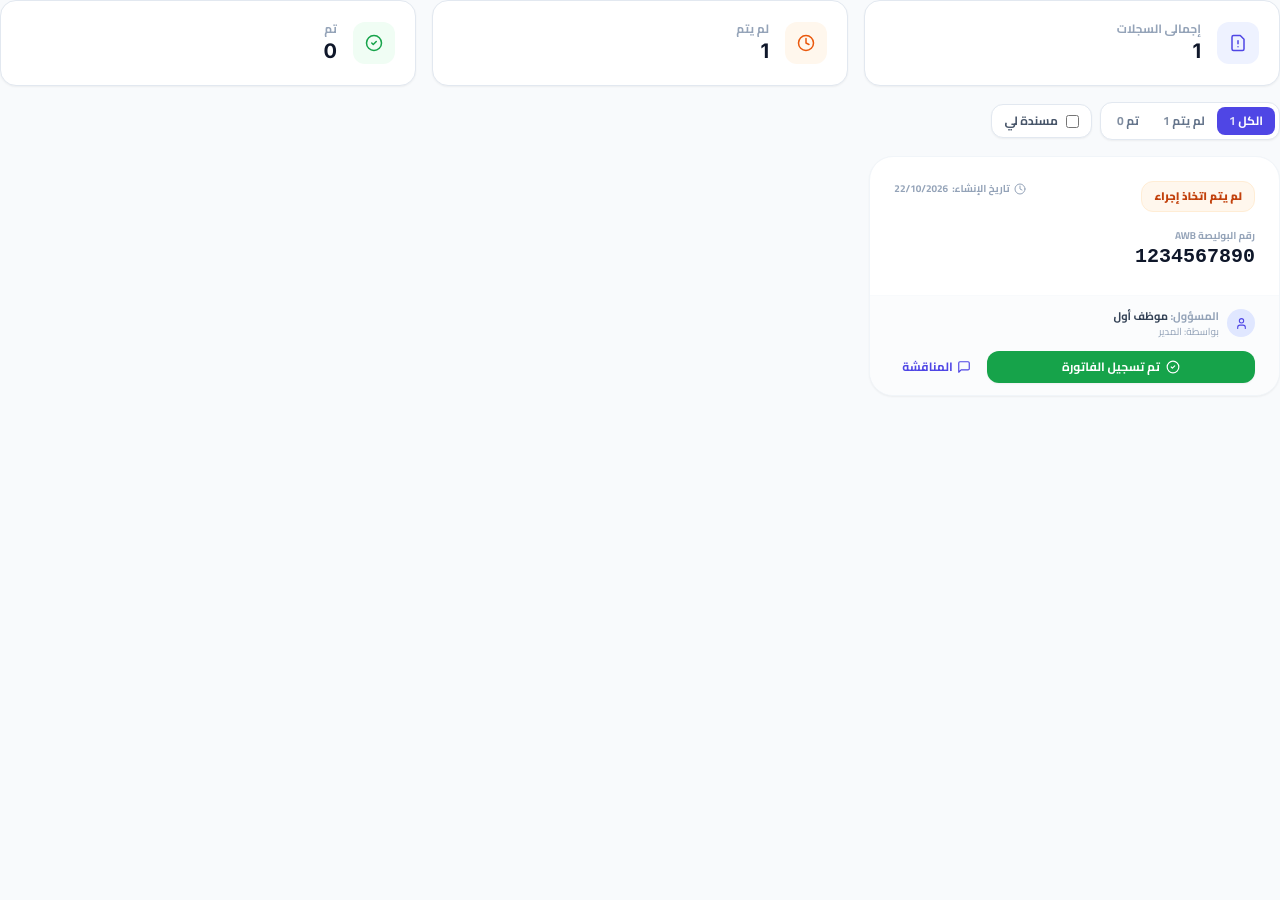
Test: تم تسجيل الفاتورة — link dialog › a mismatched or AWB-less invoice shows the warning and cannot be confirmed
Click the button "تم تسجيل الفاتورة".
click(1121, 367)  # box [987,351,1255,383]
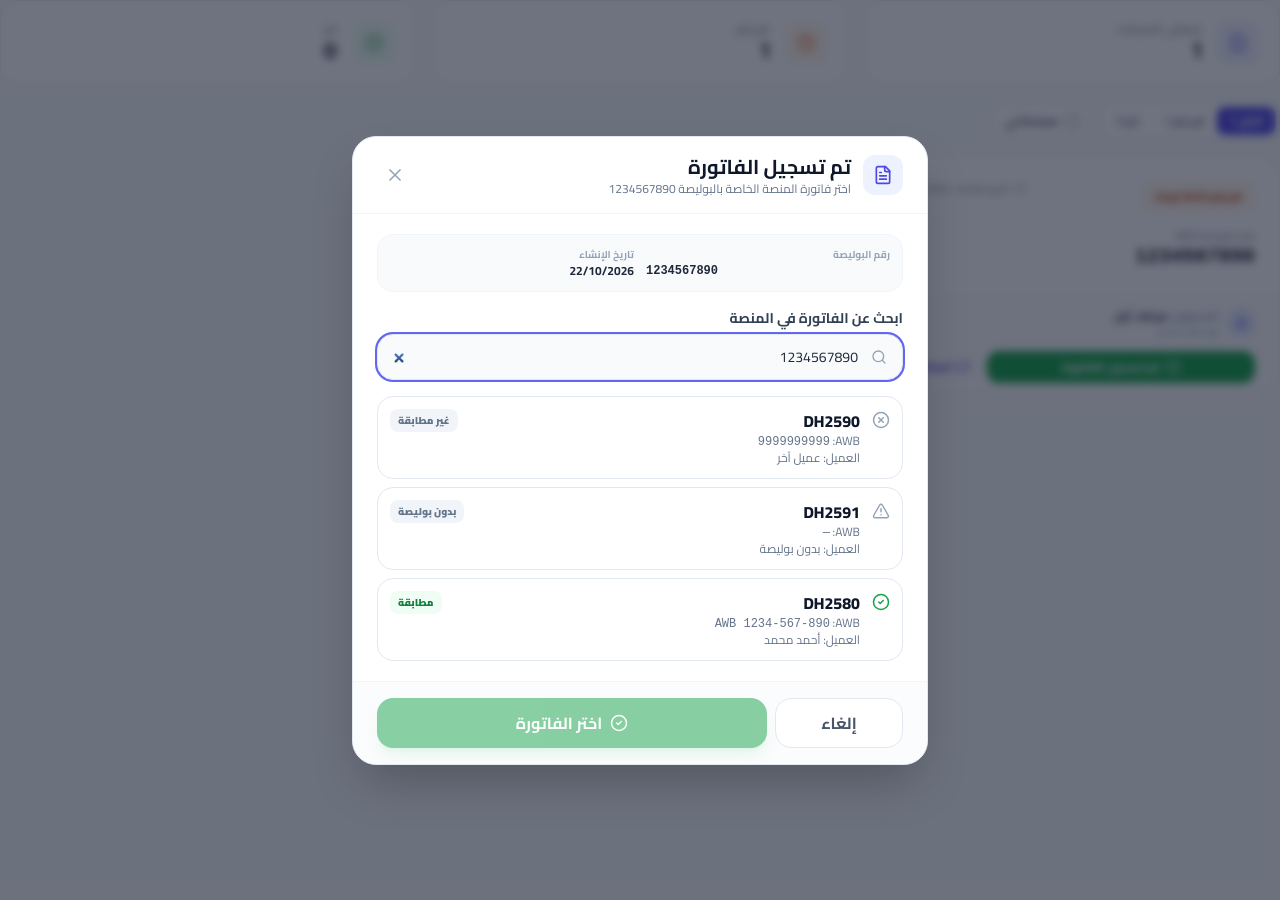
Result: the text "DH2580" is shown at [804,588,860,618]
Click the radio button labelled "DH2590 AWB: 9999999999 العميل: عميل آخر غير مطابقة".
click(832, 420)  # box [377,396,903,478]
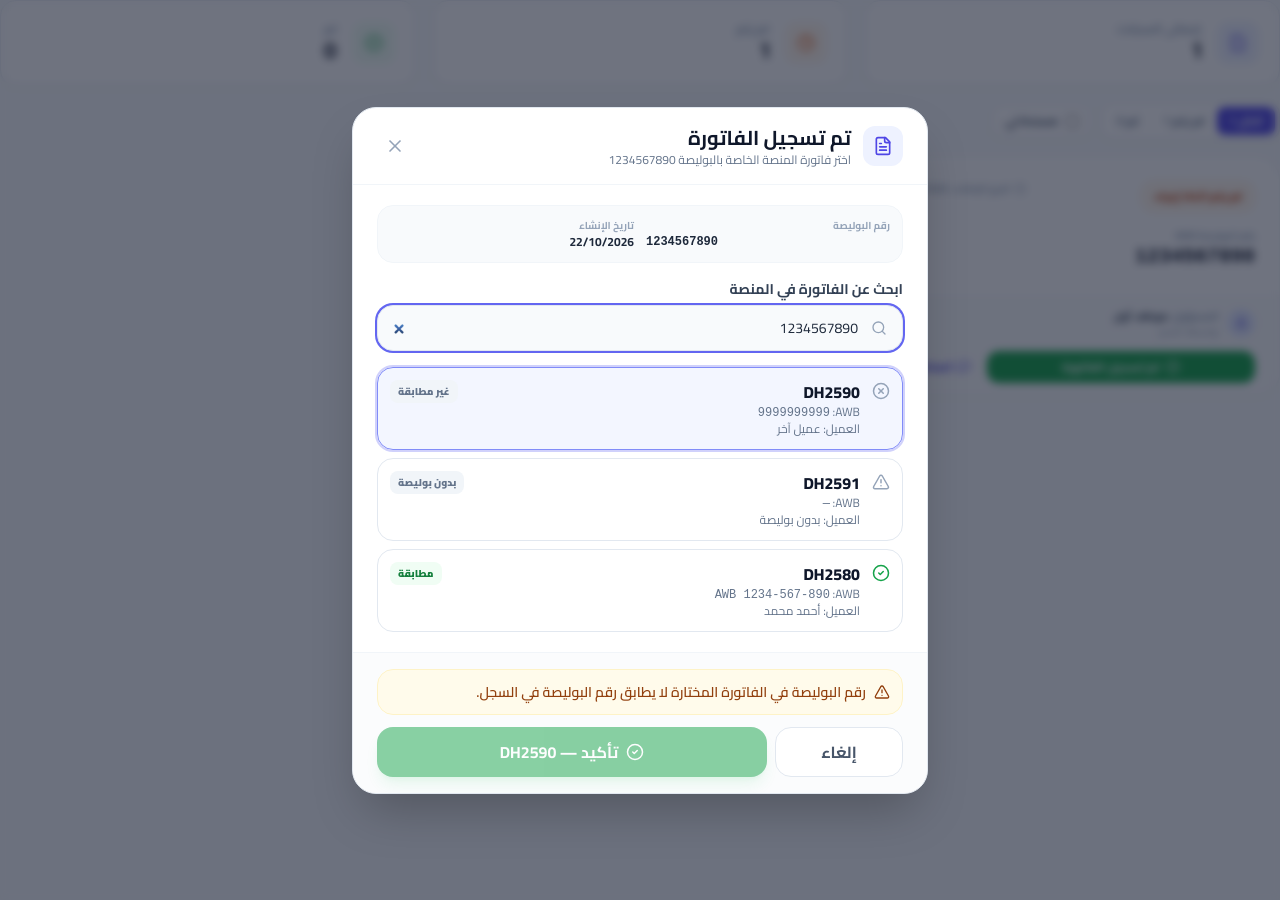
Result: the button "تأكيد — DH2590" is disabled at [377,726,767,776]
Result: the text "رقم البوليصة في الفاتورة المختارة لا يطابق رقم البوليصة في السجل." is shown at [377,668,903,714]
Click the radio button labelled "DH2591 AWB: — العميل: بدون بوليصة بدون بوليصة".
click(832, 482)  # box [377,458,903,540]
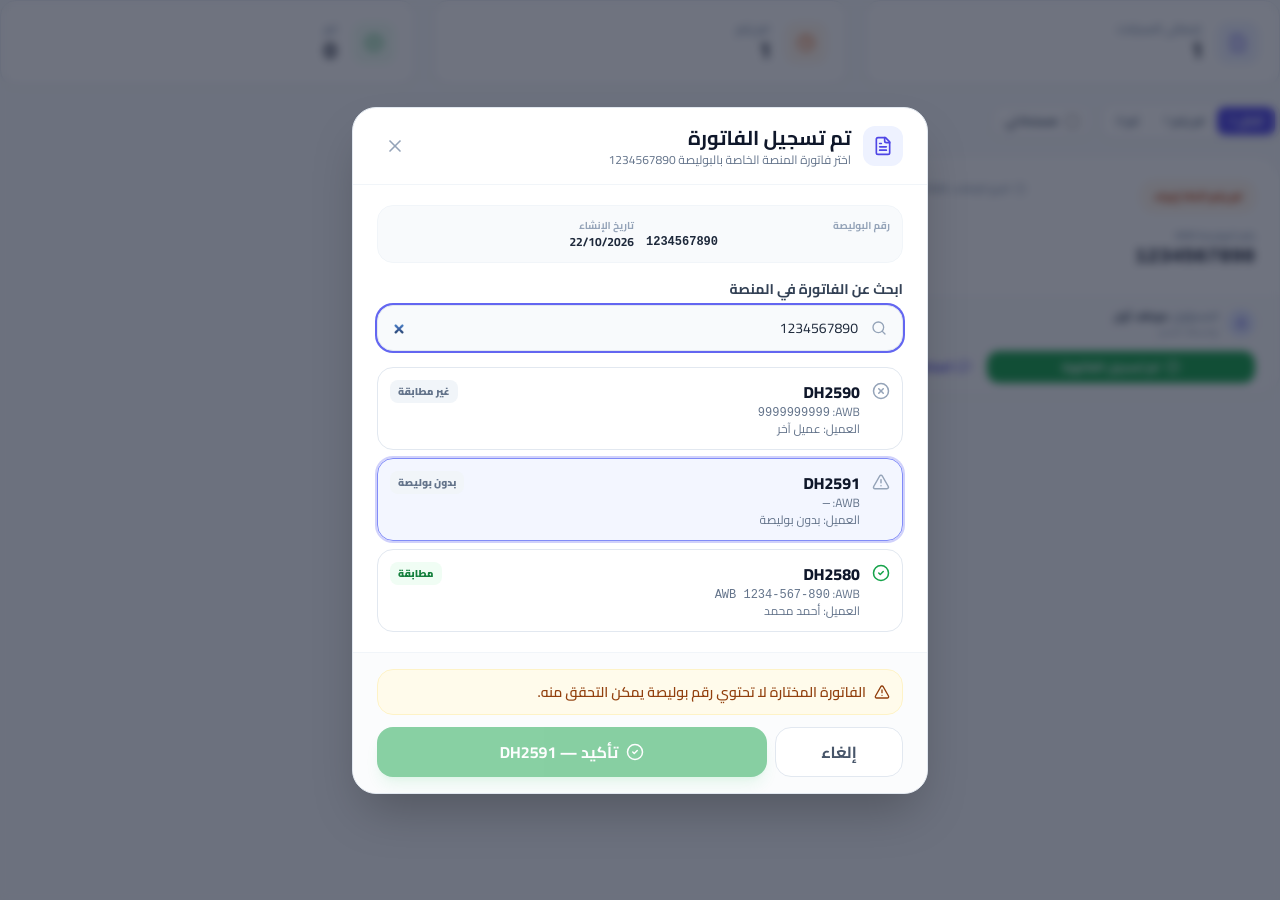
Result: the button "تأكيد — DH2591" is disabled at [377,726,767,776]
Result: the text "الفاتورة المختارة لا تحتوي رقم بوليصة يمكن التحقق منه." is shown at [377,668,903,714]
